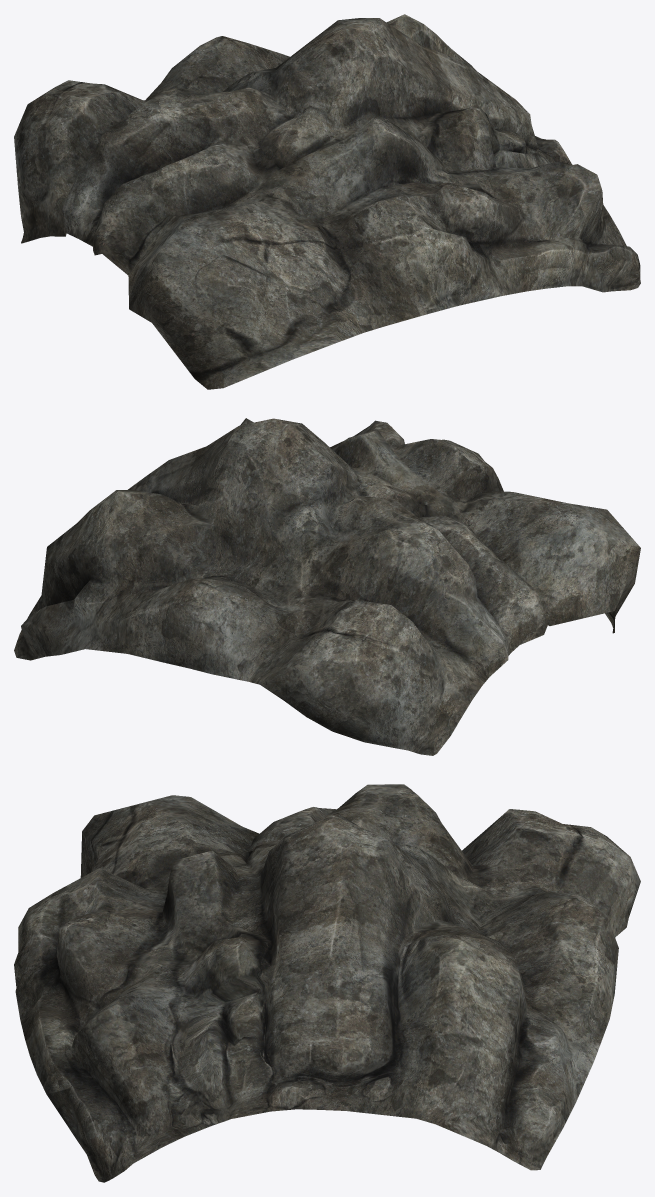
File: cave_ravine_wall_01_domed_lopoly.dae
The picture shows the model from 3 angles, top to bottom: view 1: azimuth 30°, elevation 25°; view 2: azimuth 150°, elevation 25°; view 3: azimuth 270°, elevation 25°; orthographic projection. The views are drawn at different scales.
Visible parts, largest first — view 1: Mesh; view 2: Mesh; view 3: Mesh.
Part boxes in pixels (x1,y1,x2,y2): Mesh: (14, 14, 640, 389); Mesh: (14, 418, 640, 755); Mesh: (14, 784, 640, 1182).
Size of the model in its own units: 3.99 by 1.83 by 3.98.
